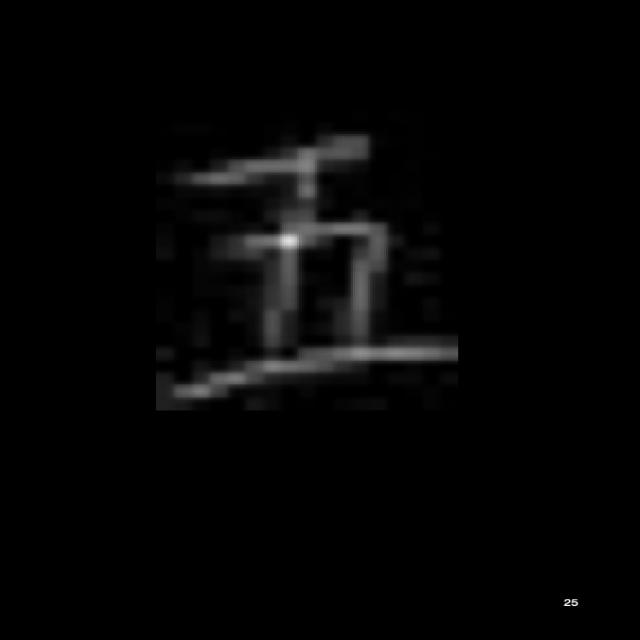5 -five-: (140, 129, 468, 402)
